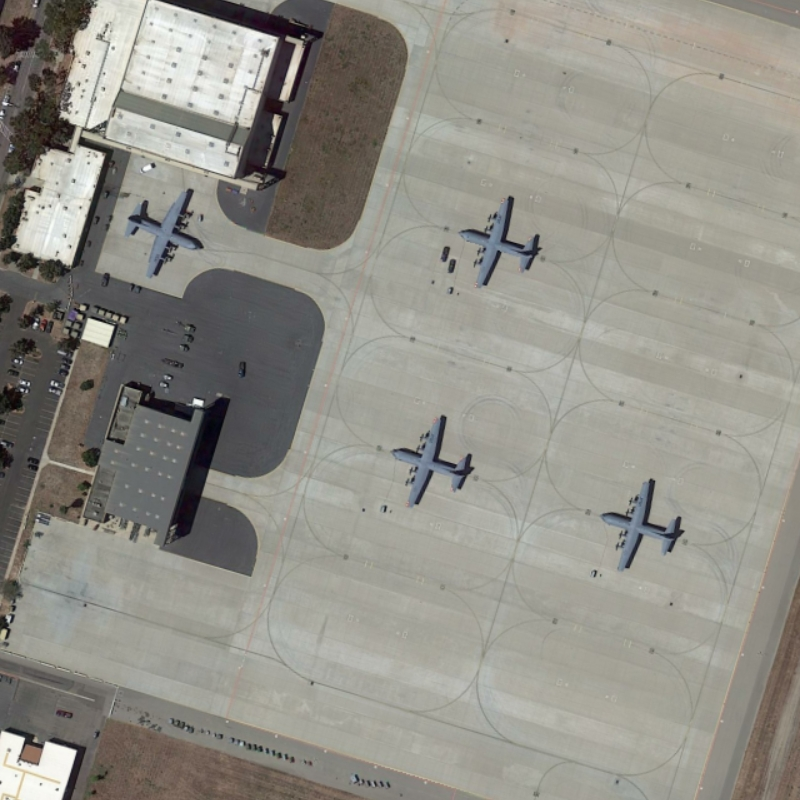A2: (449, 189, 543, 294), (597, 473, 688, 578), (384, 412, 476, 511), (121, 183, 207, 284)
